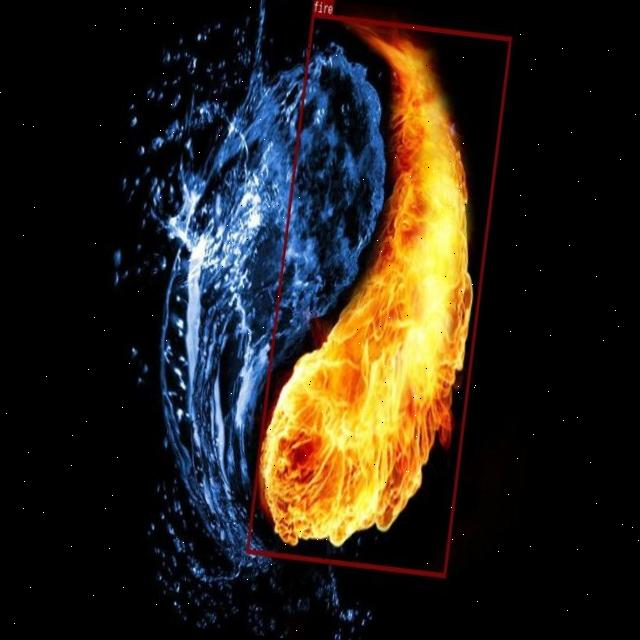fire: (245, 11, 511, 576)
